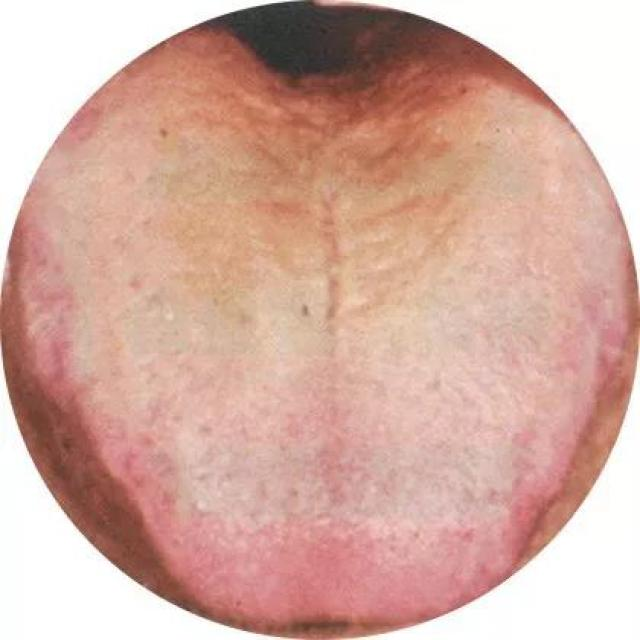tongue: (17, 49, 638, 595)
